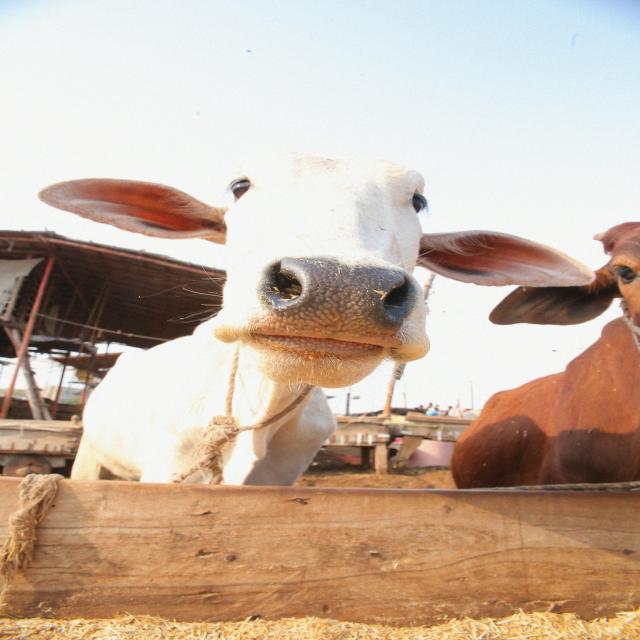muzzles: (248, 250, 431, 356)
